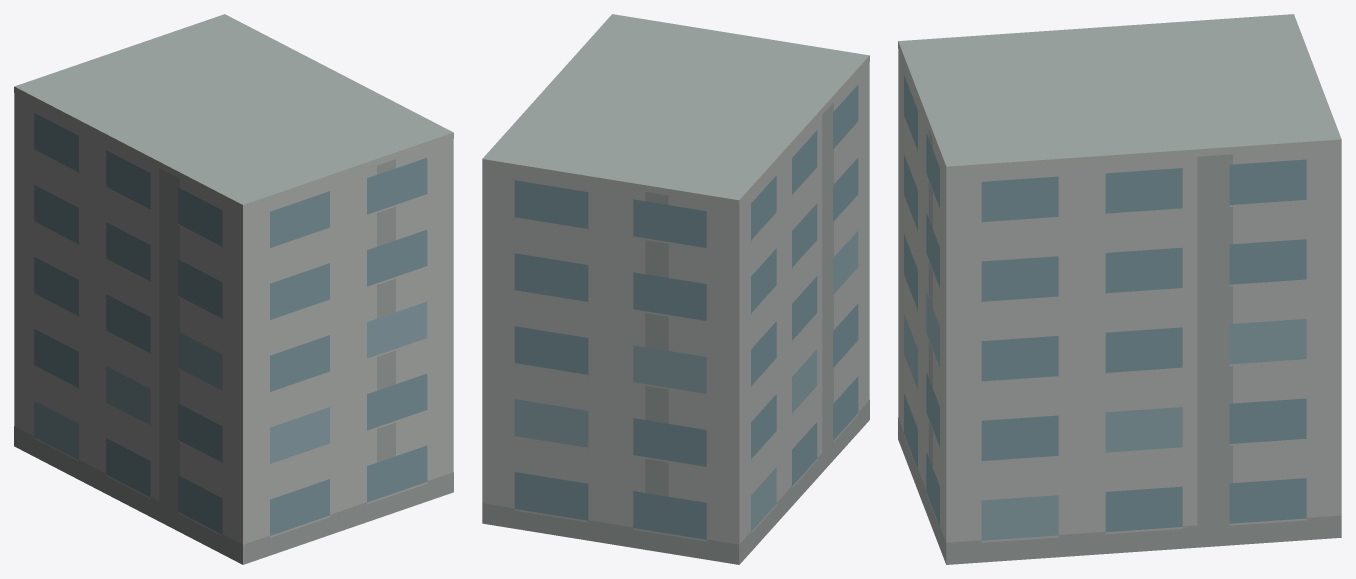
The model's file is survey-upis-32914766.glb.
3 views of the same model, side by side, from view 1: azimuth 30°, elevation 25°; view 2: azimuth 150°, elevation 25°; view 3: azimuth 270°, elevation 25° (orthographic). The views are drawn at different scales.
Parts seen in each view (by area): view 1: survey-upis-32914766.tmp; view 2: survey-upis-32914766.tmp; view 3: survey-upis-32914766.tmp.
Boxes of the visible parts, bbox=[...] form: survey-upis-32914766.tmp: bbox=[14, 14, 453, 564]; survey-upis-32914766.tmp: bbox=[482, 14, 869, 564]; survey-upis-32914766.tmp: bbox=[898, 14, 1341, 564].
Bounding box in the file's own units: 10.86 × 13.2 × 13.33.
